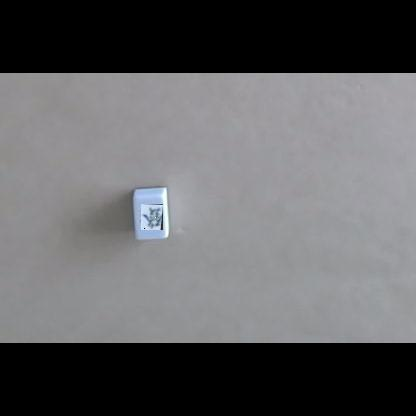6z: (141, 204, 163, 230)
